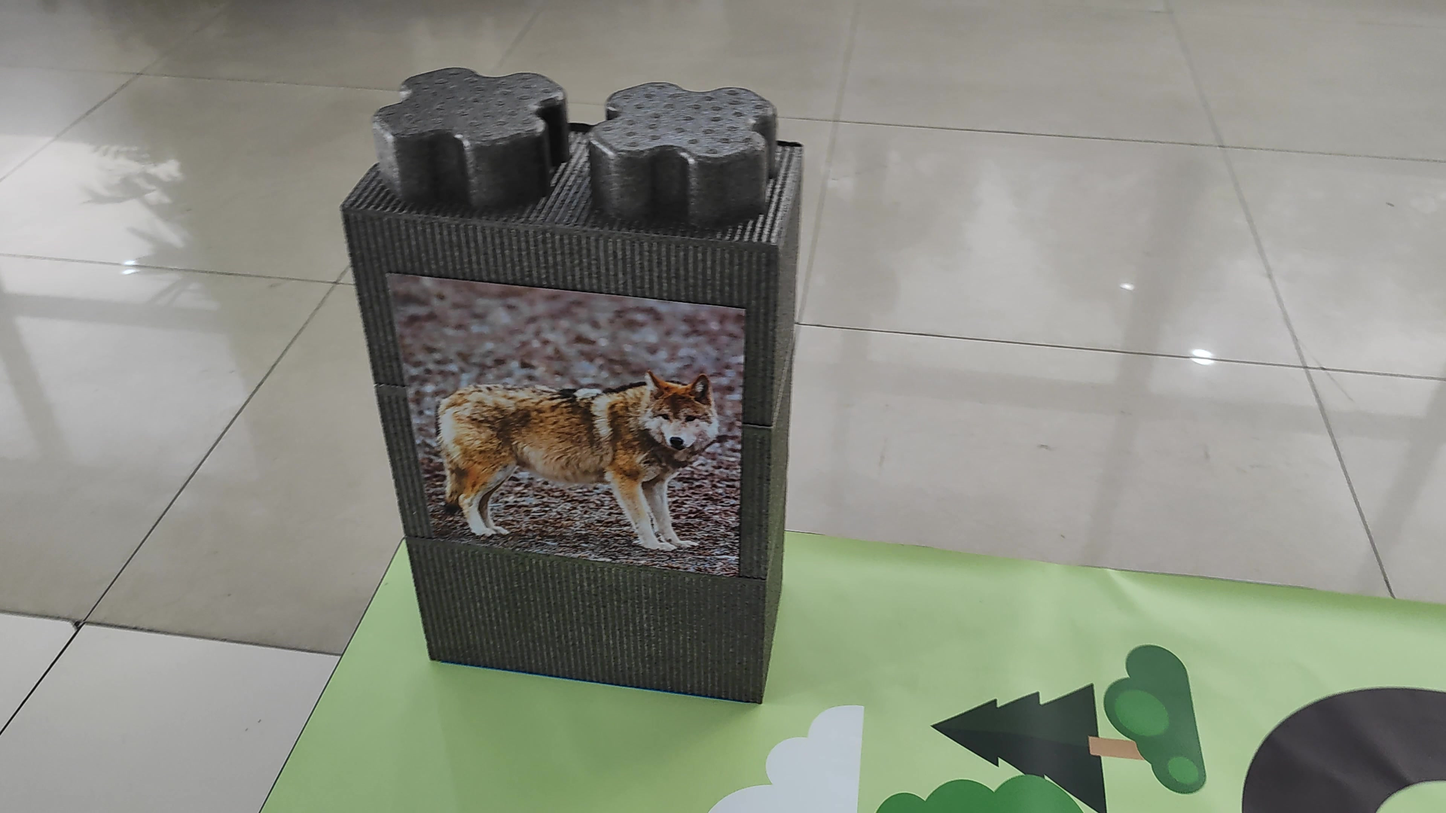wolf: (434, 329, 723, 572)
